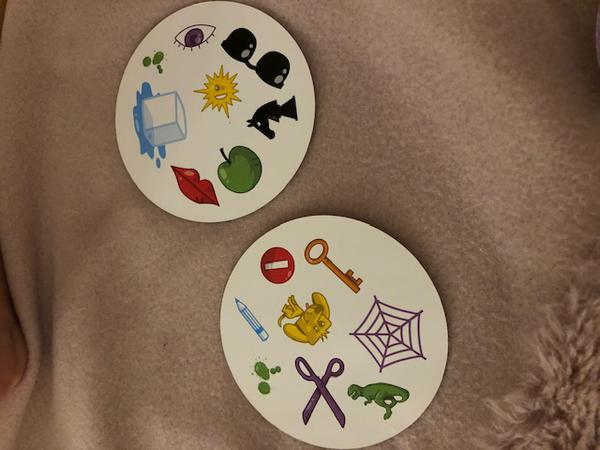bouche: (167, 162, 218, 210)
cheval: (243, 93, 300, 141)
chien: (278, 291, 333, 348)
ciseau: (288, 351, 350, 429)
cle: (297, 233, 365, 295)
crayon: (232, 294, 270, 346)
dinosore: (347, 377, 410, 422)
glacon: (129, 81, 188, 169)
lunette: (218, 23, 292, 93)
oeuil: (172, 20, 219, 57)
pomme: (216, 141, 266, 197)
sens_interdit: (255, 244, 300, 289)
soleil: (191, 64, 244, 120)
tache: (247, 356, 284, 397), (135, 42, 172, 82)
toile: (350, 296, 426, 371)
